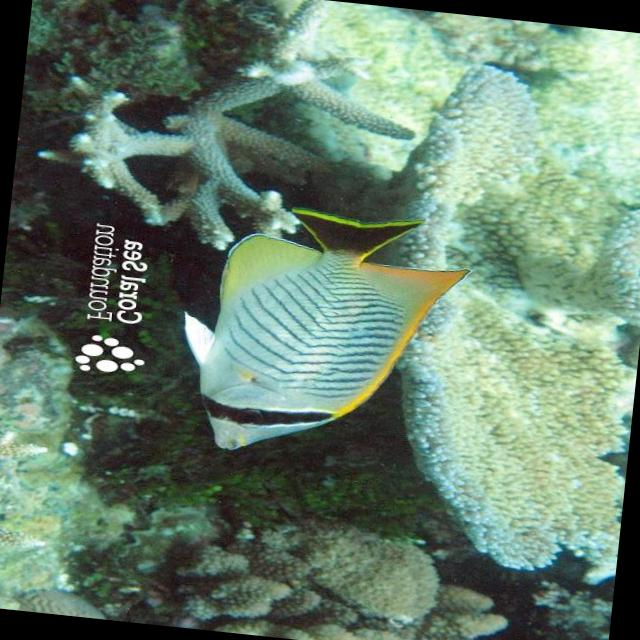ButterflyFish: (172, 179, 450, 495)
